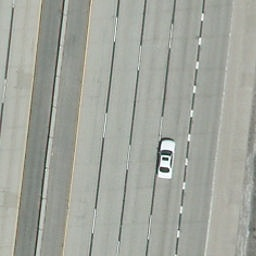car: (155, 139, 176, 179)
